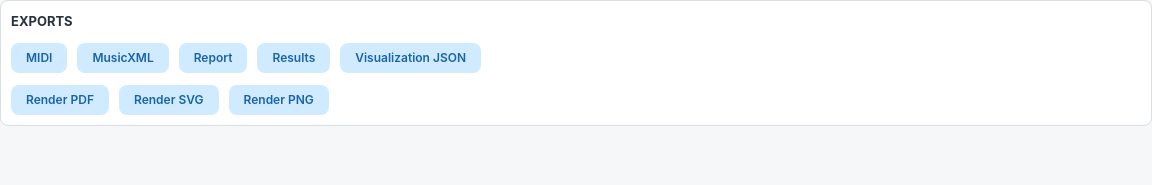
Test: ExportMenu › renders score exports and exposes download links after render succeeds
This screenshot has width=1152, height=185.
Click the button "Render PDF". click: (60, 100)
box: [11,85,109,115]
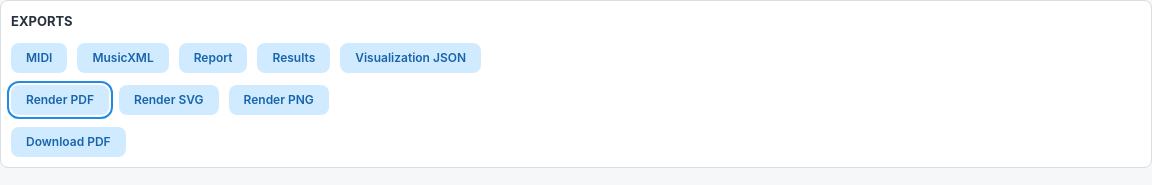
Expected: the button "Download PDF" is shown, [26,134,111,149]
